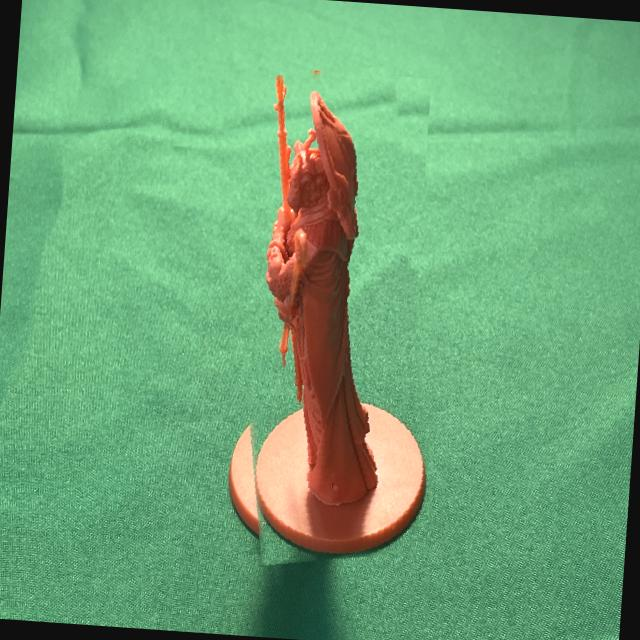amon: (204, 59, 450, 570)
